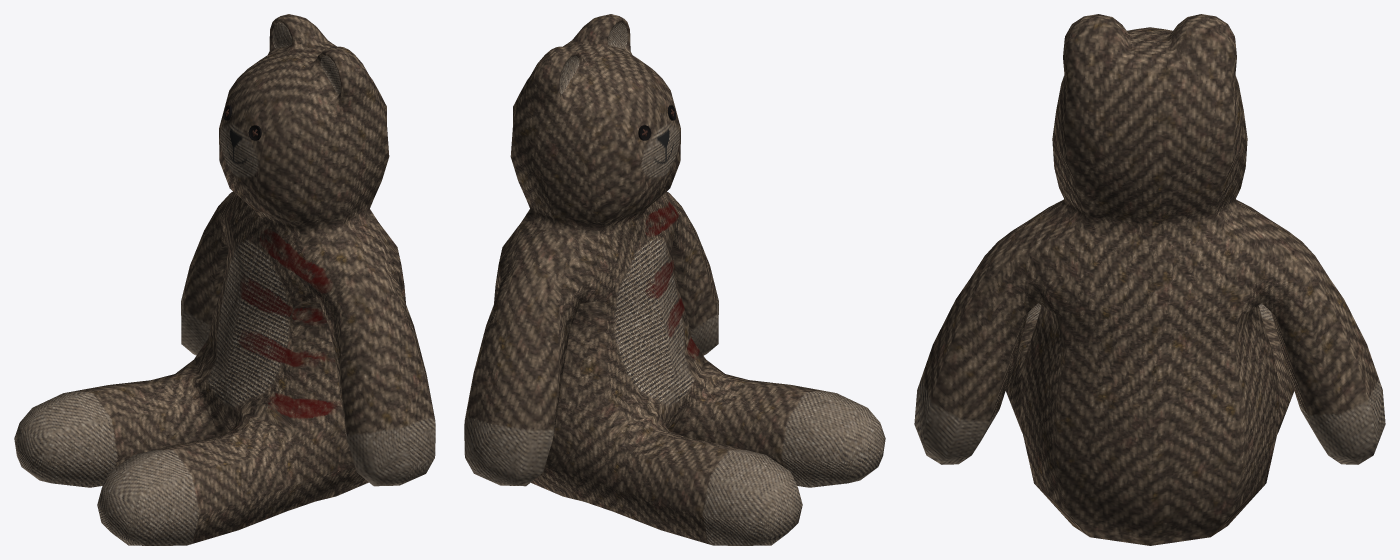
File: Bear_LowPoly.fbx
The picture shows the model from 3 angles, left to right: view 1: azimuth 30°, elevation 25°; view 2: azimuth 150°, elevation 25°; view 3: azimuth 270°, elevation 25°; orthographic projection. The views are drawn at different scales.
Visible parts, largest first — view 1: Bear_LowPoly; view 2: Bear_LowPoly; view 3: Bear_LowPoly.
Part boxes in pixels (x1,y1,x2,y2): Bear_LowPoly: (14, 14, 435, 545); Bear_LowPoly: (464, 14, 885, 545); Bear_LowPoly: (914, 14, 1385, 545).
Size of the model in its own units: 18.94 by 23.31 by 19.61.
